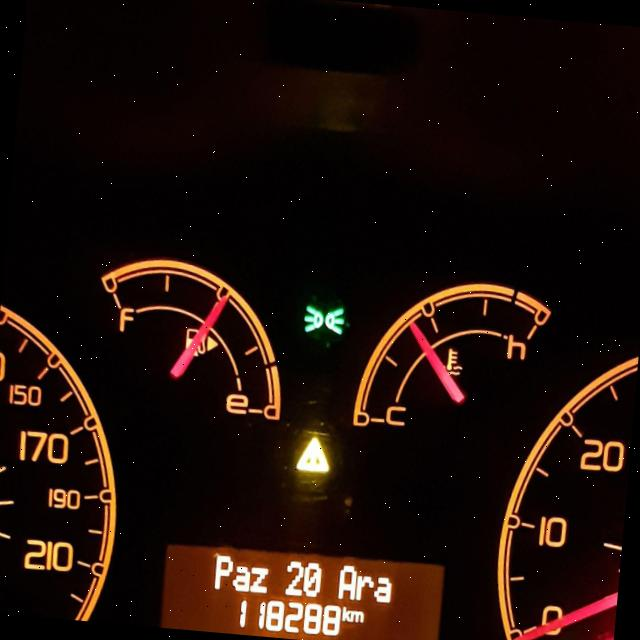odometer: (154, 537, 450, 640)
